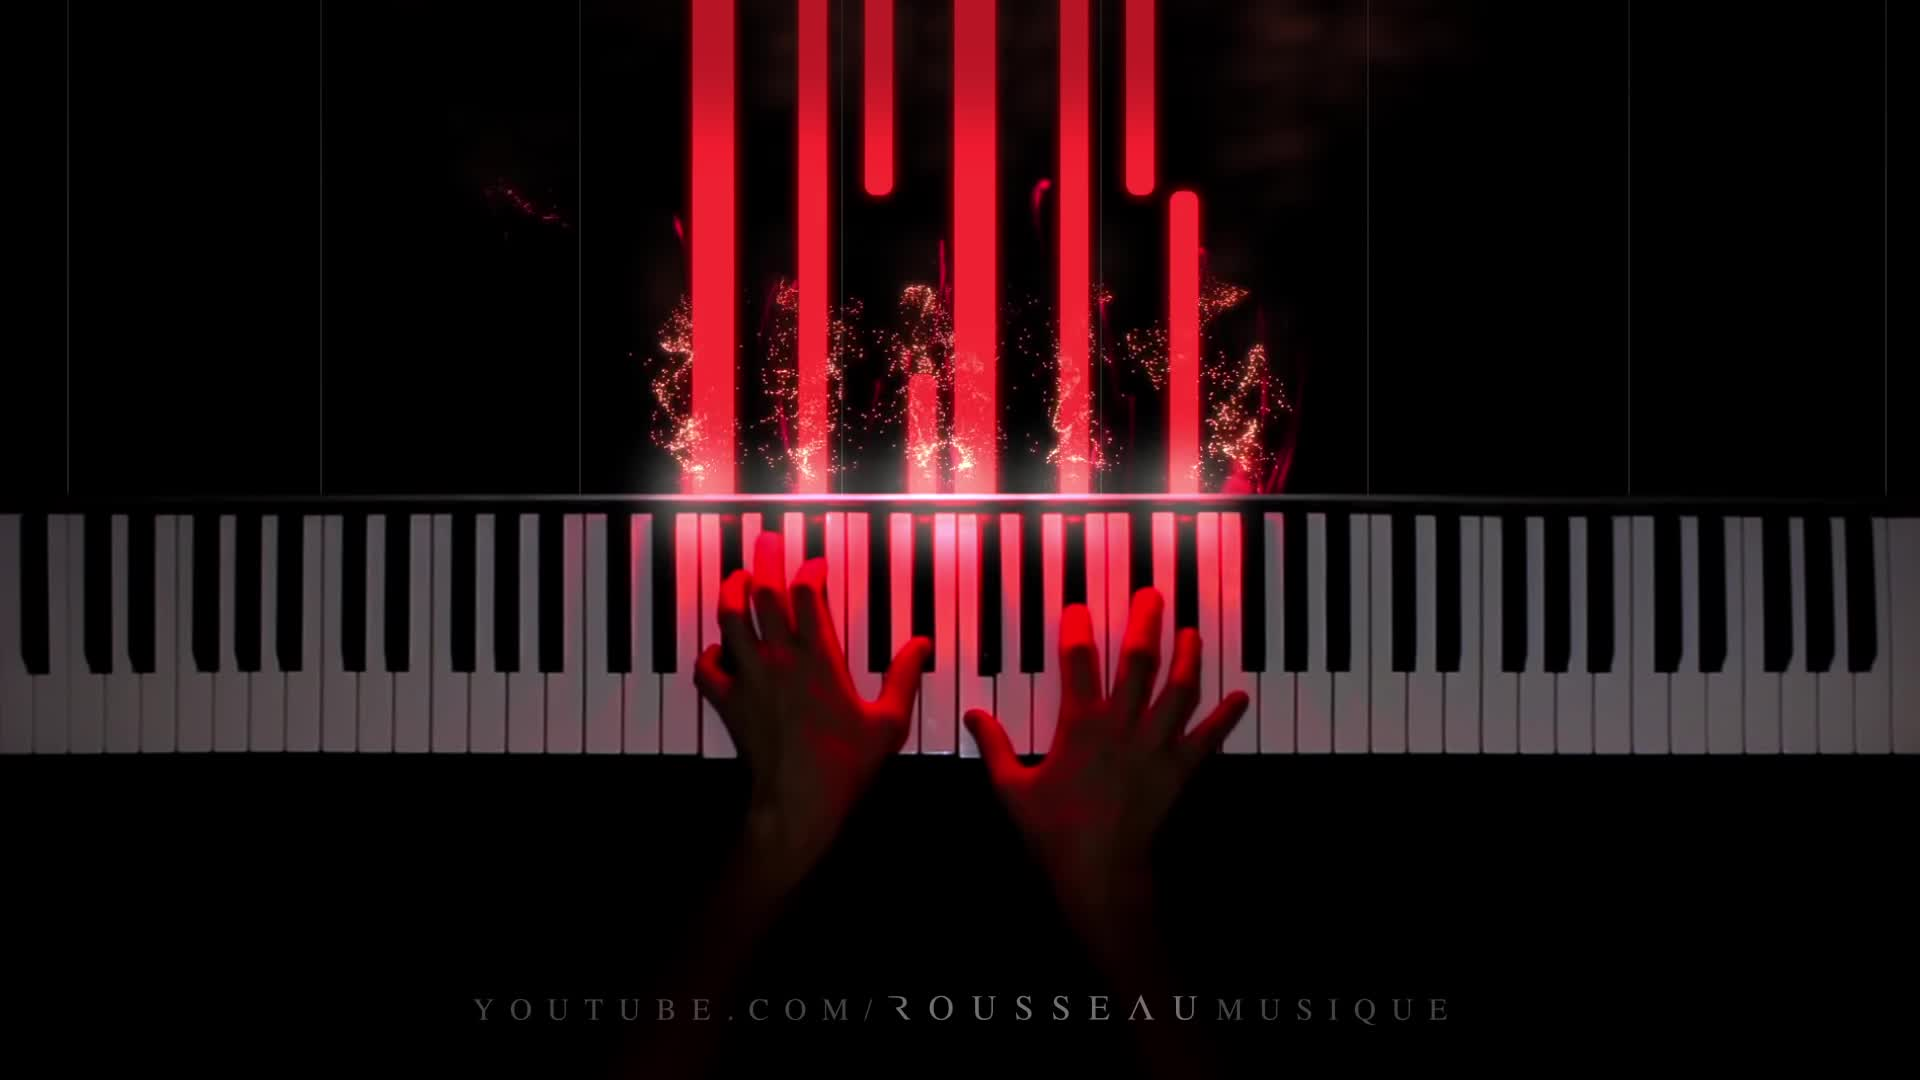left: (694, 529, 935, 802)
right: (964, 582, 1247, 851)
